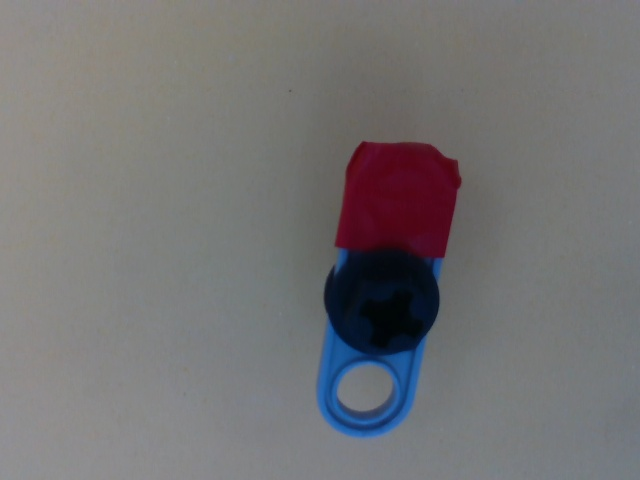part_1_good: (309, 137, 467, 442)
